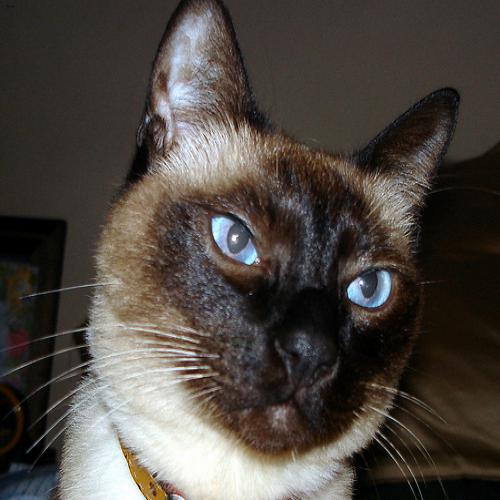siamese: (113, 1, 468, 463)
